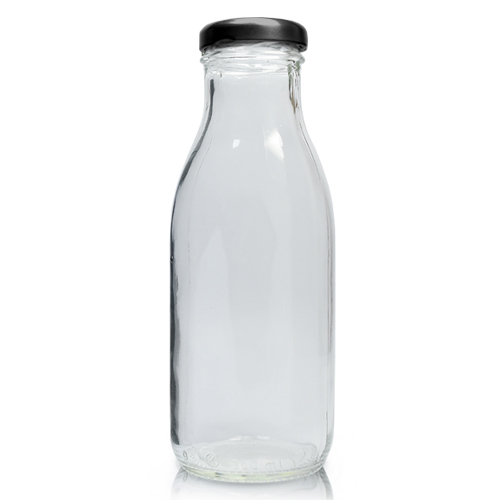glass_bottle: (162, 12, 343, 488)
